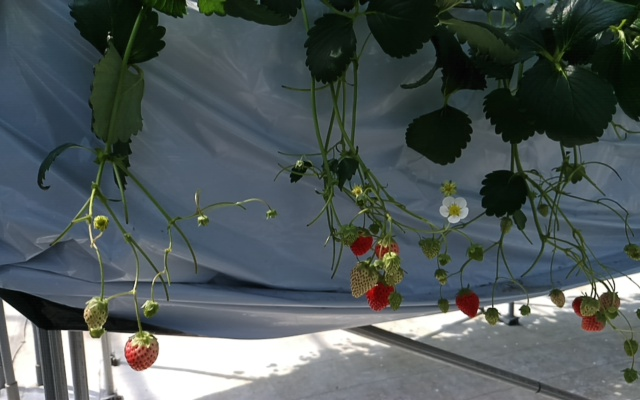GreenStrawberry: (347, 260, 381, 301), (83, 295, 108, 334), (579, 309, 609, 334), (382, 267, 405, 288), (600, 292, 620, 316), (419, 237, 439, 261), (381, 252, 400, 274), (339, 222, 356, 246), (581, 297, 600, 318), (549, 288, 567, 309), (467, 242, 484, 264), (388, 292, 405, 311), (623, 338, 639, 358), (484, 308, 500, 326), (624, 367, 640, 385), (625, 242, 640, 261), (433, 269, 448, 286), (499, 216, 512, 235), (535, 201, 549, 217), (438, 299, 450, 314)
MatureStrawberry: (125, 332, 160, 373), (364, 278, 399, 315), (374, 233, 402, 269), (454, 288, 481, 320), (347, 226, 374, 257)
